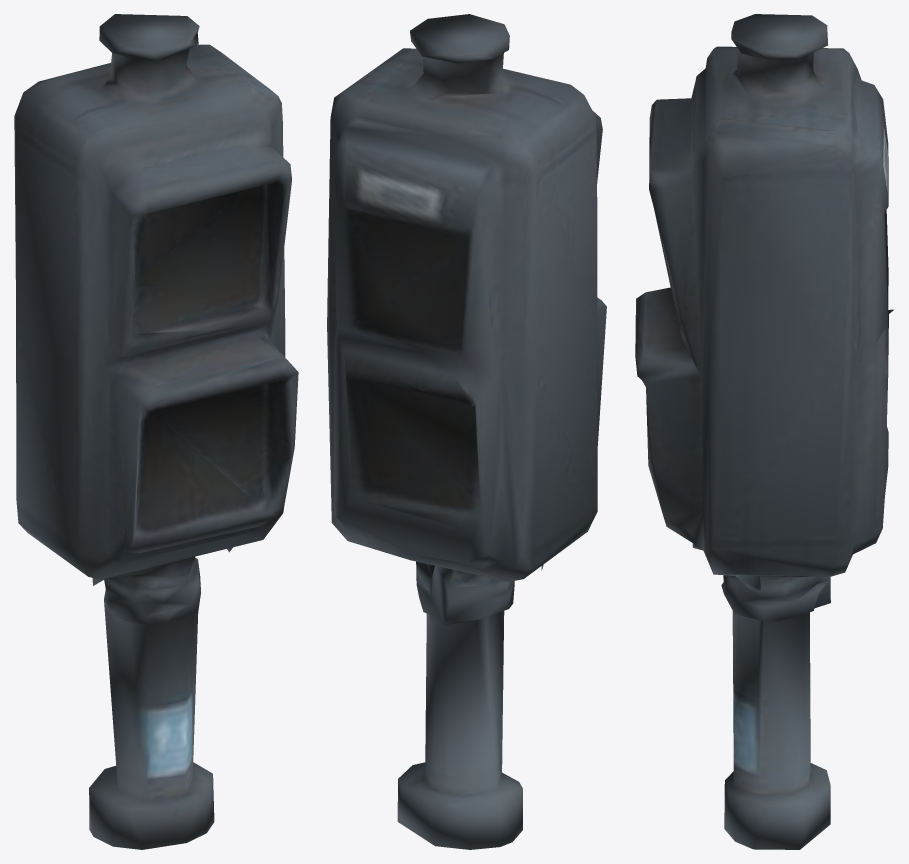
The model's file is prop3d-signal-ped.glb.
3 views of the same model, side by side, from view 1: azimuth 30°, elevation 25°; view 2: azimuth 150°, elevation 25°; view 3: azimuth 270°, elevation 25° (orthographic).
Size of the model in its own units: 0.553 by 2 by 0.5918.
Materials: 1 (1 with a texture image).
